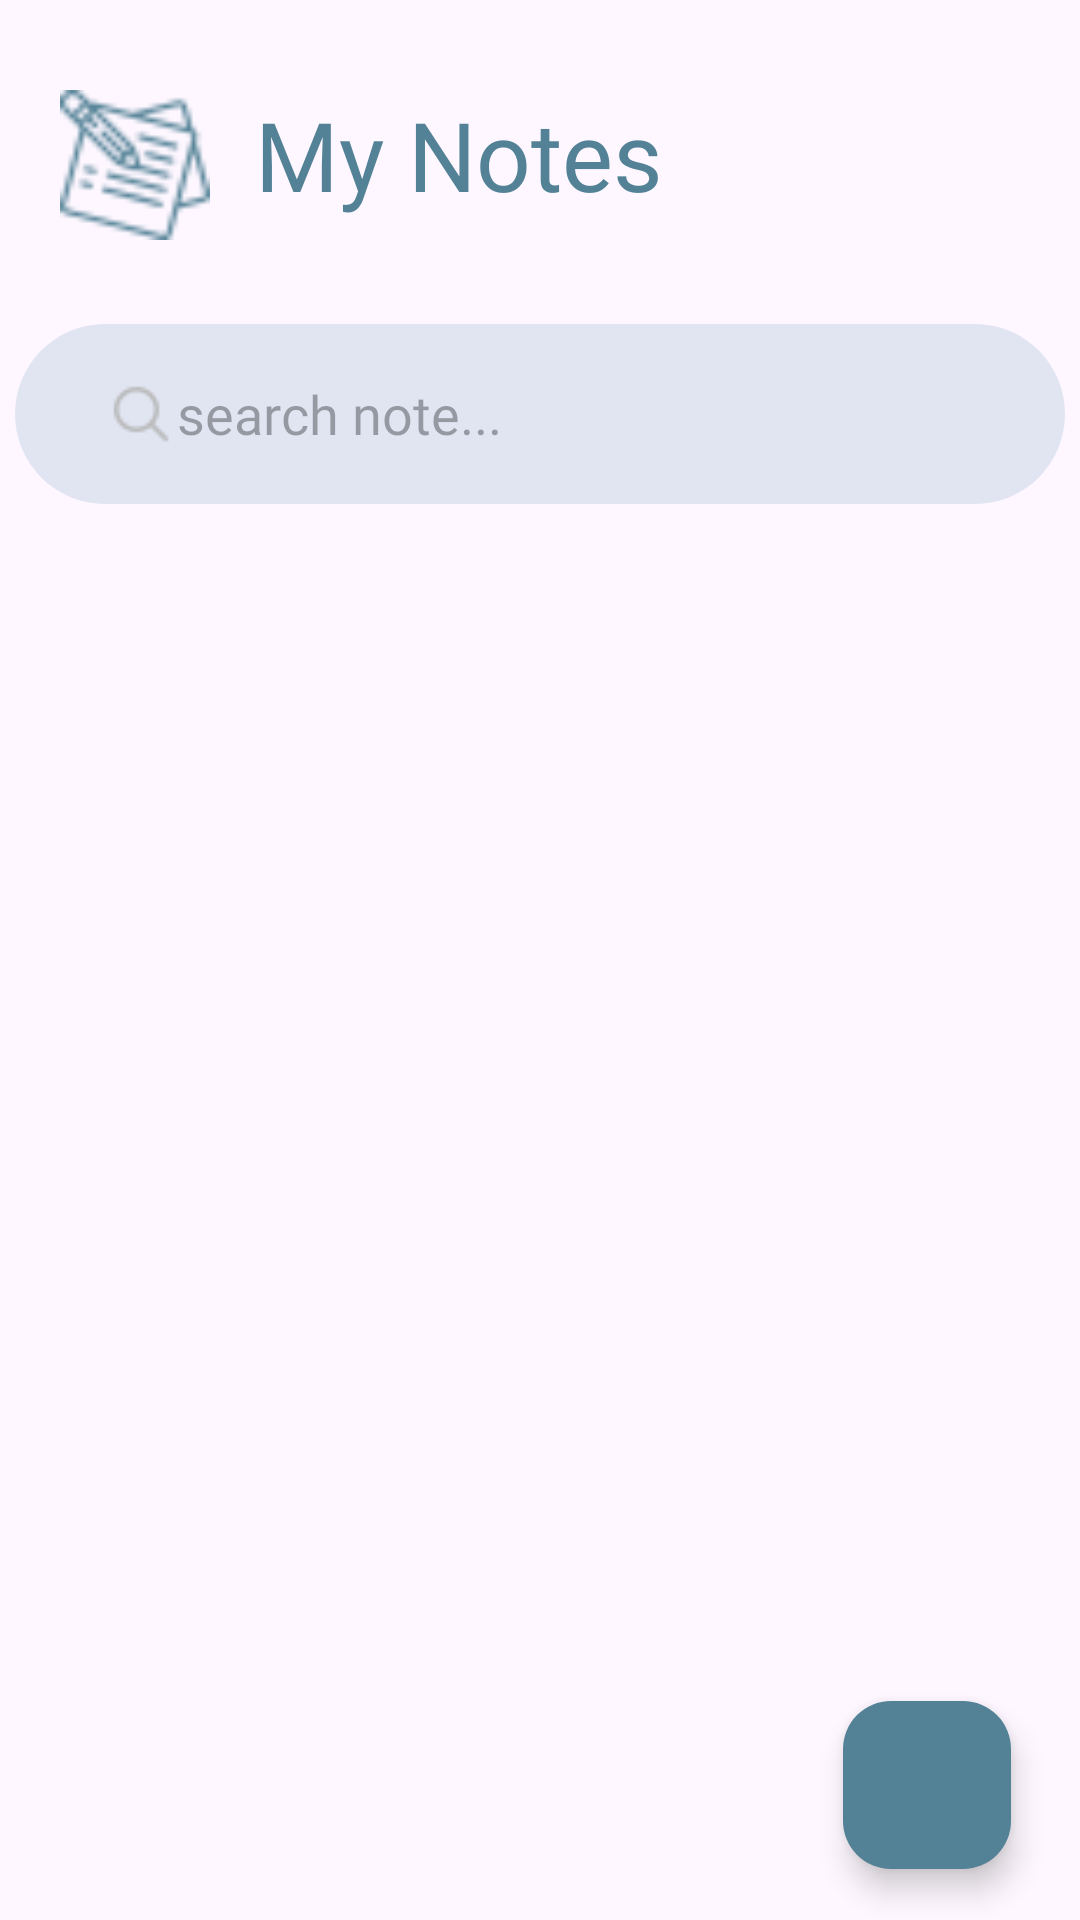

Locate icon controls on the screen. Image size 1080px×1920px, boxes as (x1, y1, x2, y2).
note collante: (60, 90, 210, 240)
